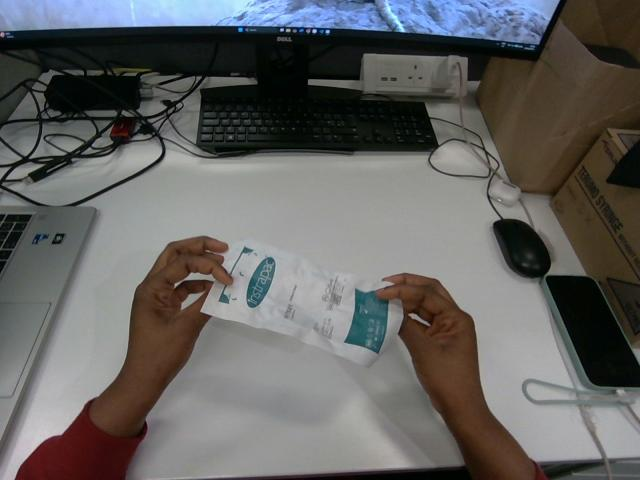gallipot: (202, 240, 402, 365)
